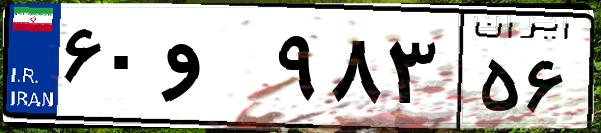0: (110, 28, 158, 98)
3: (385, 28, 445, 110)
5: (475, 38, 525, 113)
6: (57, 26, 110, 100), (525, 38, 570, 115)
8: (330, 28, 385, 110)
9: (270, 28, 330, 110)
و: (158, 20, 270, 120)
